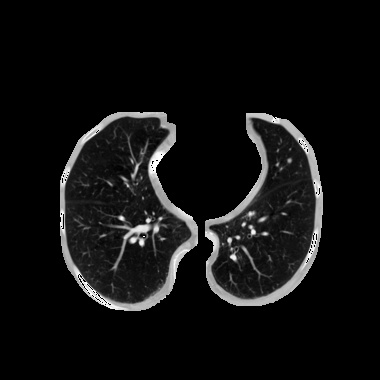PN: (286, 157, 292, 163)
